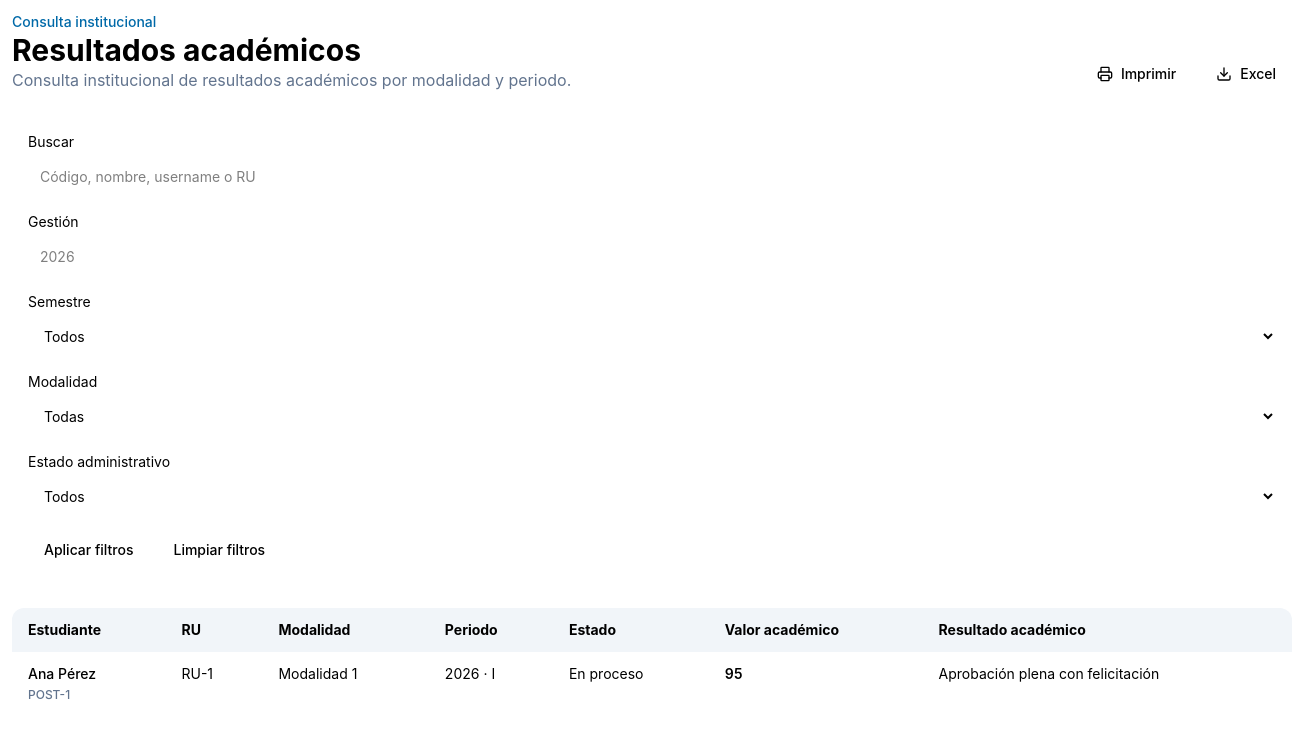
Test: ResultadosAcademicosPage › evita acciones simultáneas y presenta errores de exportación
Expected: the text "Ana Pérez" is shown, [28, 665, 96, 682]
Click the button "Excel" at point(1246, 74), box [1200, 56, 1292, 92]
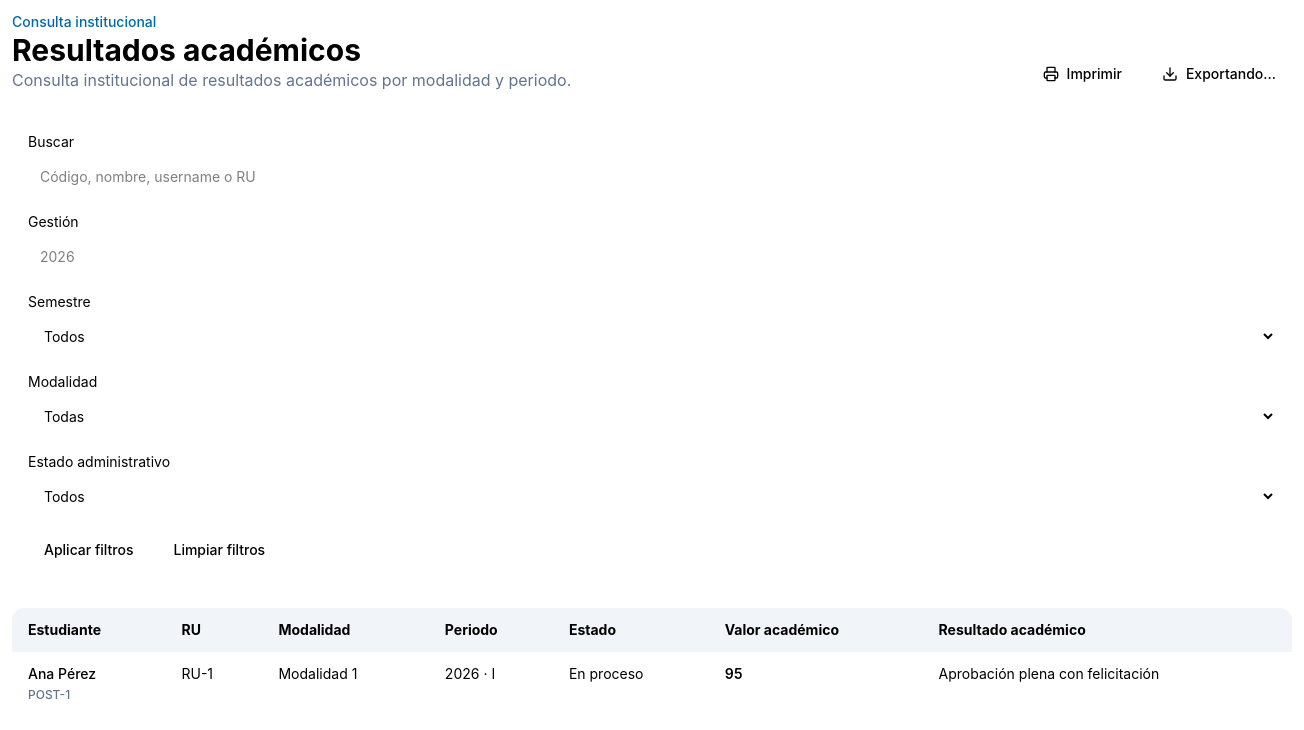
Expected: the button "Exportando…" is disabled
Expected: the button "Imprimir" is disabled, [1027, 56, 1138, 92]
Click the button "Exportando…" at point(1219, 74), box [1146, 56, 1292, 92]
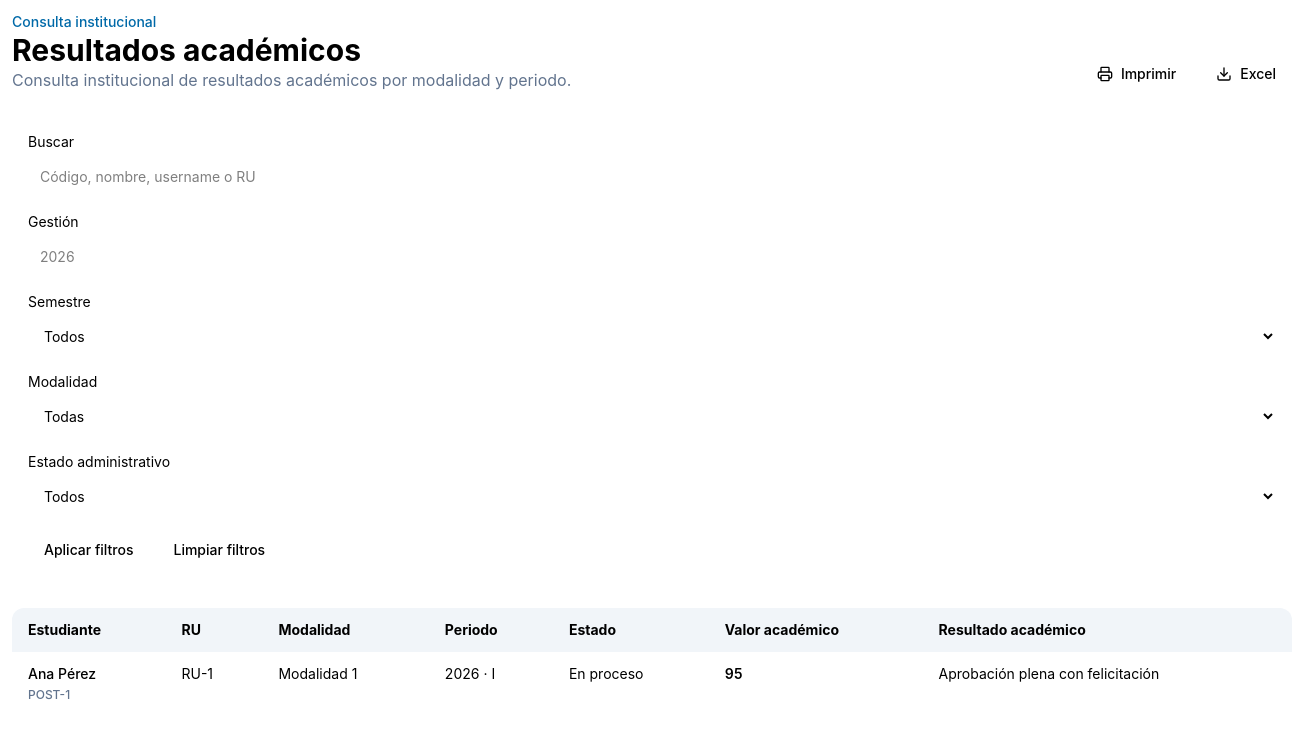
Expected: the button "Excel" is enabled, [1200, 56, 1292, 92]
Click the button "Imprimir" at point(1137, 74), box [1081, 56, 1192, 92]
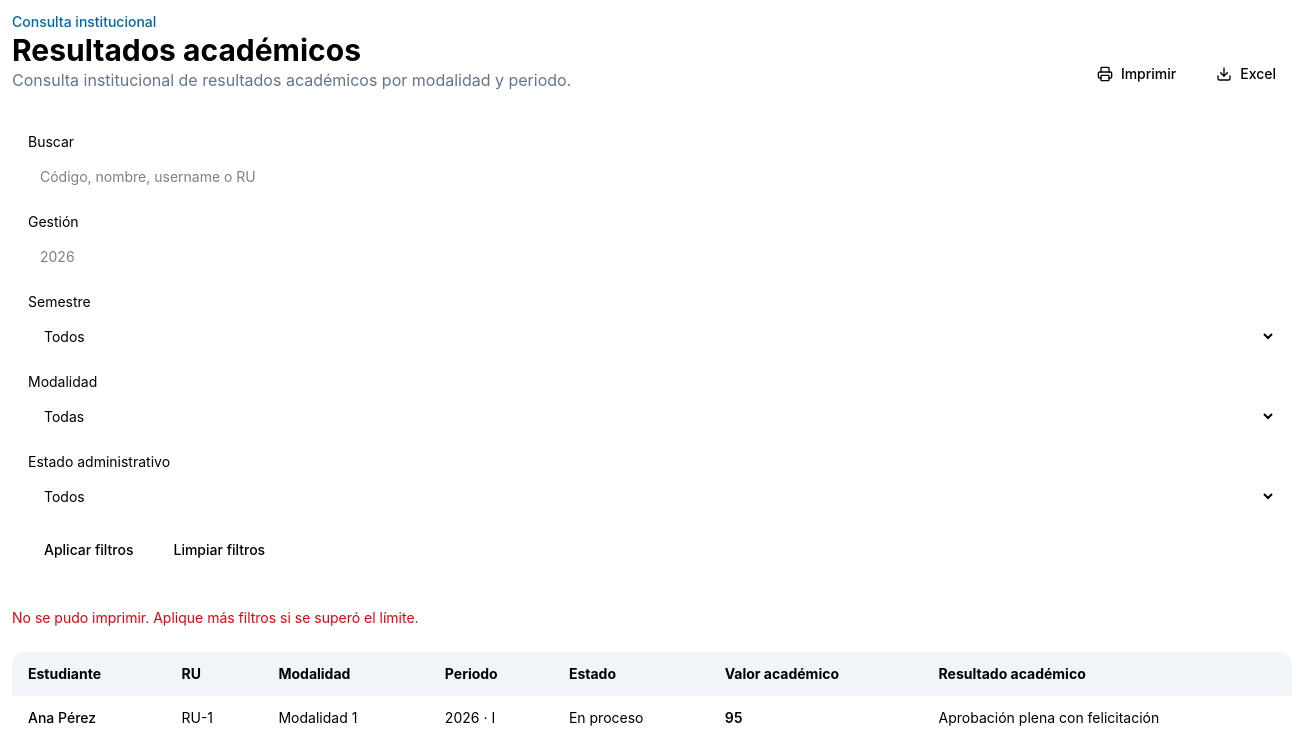
Expected: the message shows "No se pudo imprimir.", [12, 609, 149, 626]
